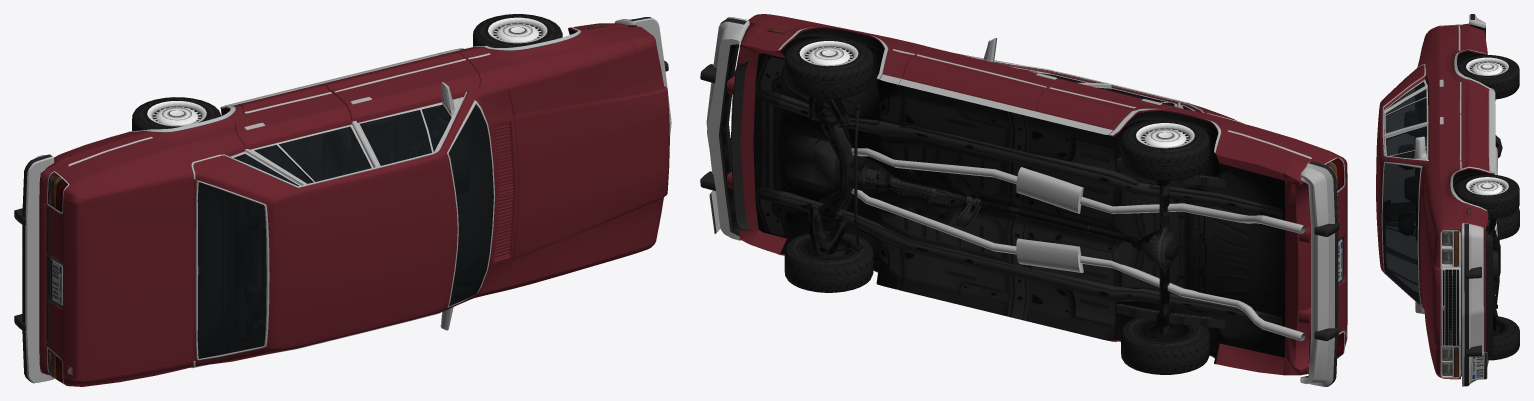
3 views of the same model, side by side, from view 1: azimuth 30°, elevation 25°; view 2: azimuth 150°, elevation 25°; view 3: azimuth 270°, elevation 25° (orthographic). The views are drawn at different scales.
Visible parts, largest first — view 1: fairheaven_lt80; view 2: fairheaven_lt80; view 3: fairheaven_lt80.
Part boxes in pixels (<box>): fairheaven_lt80: <box>14,14,671,386</box>; fairheaven_lt80: <box>700,14,1347,386</box>; fairheaven_lt80: <box>1376,14,1519,386</box>.
Bounding box in the file's own units: 5 × 1.83 × 1.35.
8 materials, 7 textured.
